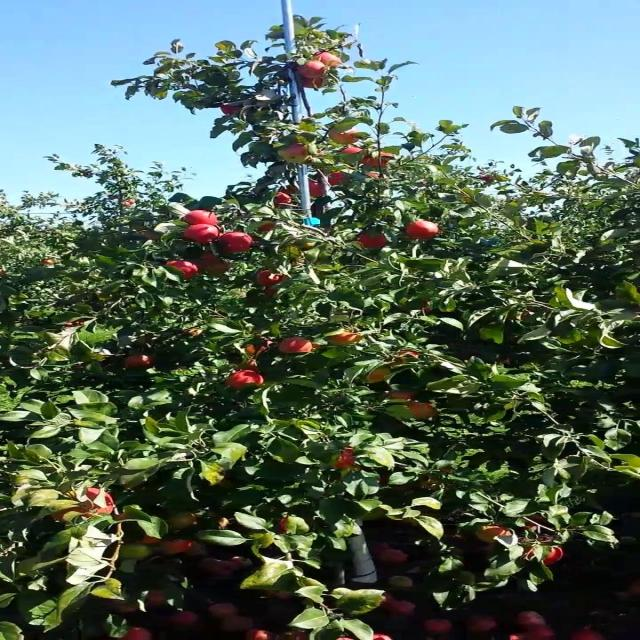apple: (53, 488, 116, 521), (82, 488, 116, 514), (218, 231, 253, 254), (182, 224, 220, 244), (227, 370, 264, 389), (404, 220, 440, 239), (278, 336, 313, 354), (476, 525, 511, 543), (360, 151, 396, 168), (278, 144, 309, 163), (167, 260, 198, 279), (356, 231, 387, 249), (182, 210, 218, 225), (333, 446, 356, 469), (198, 259, 231, 275), (160, 539, 193, 555), (256, 270, 287, 287), (298, 60, 327, 78), (329, 128, 360, 144), (389, 350, 420, 366), (409, 402, 438, 419), (244, 338, 271, 356), (124, 354, 153, 370), (169, 512, 196, 529), (327, 331, 362, 344), (542, 546, 564, 565), (316, 52, 342, 68), (367, 366, 391, 383), (524, 514, 549, 530), (273, 191, 293, 208), (327, 171, 351, 185), (300, 76, 324, 89), (196, 252, 220, 264), (309, 179, 324, 198), (338, 145, 364, 155), (389, 391, 414, 400), (220, 104, 240, 115), (258, 220, 276, 232), (278, 515, 289, 534), (242, 359, 258, 371), (138, 536, 160, 544), (420, 300, 433, 313), (64, 319, 84, 327), (264, 288, 278, 298), (524, 548, 536, 559), (364, 171, 380, 178)
